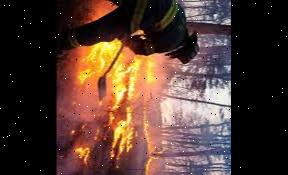fire: (56, 37, 161, 175)
